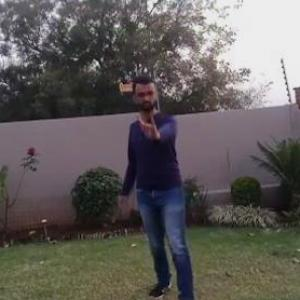takeoff-hand: (136, 114, 163, 147)
